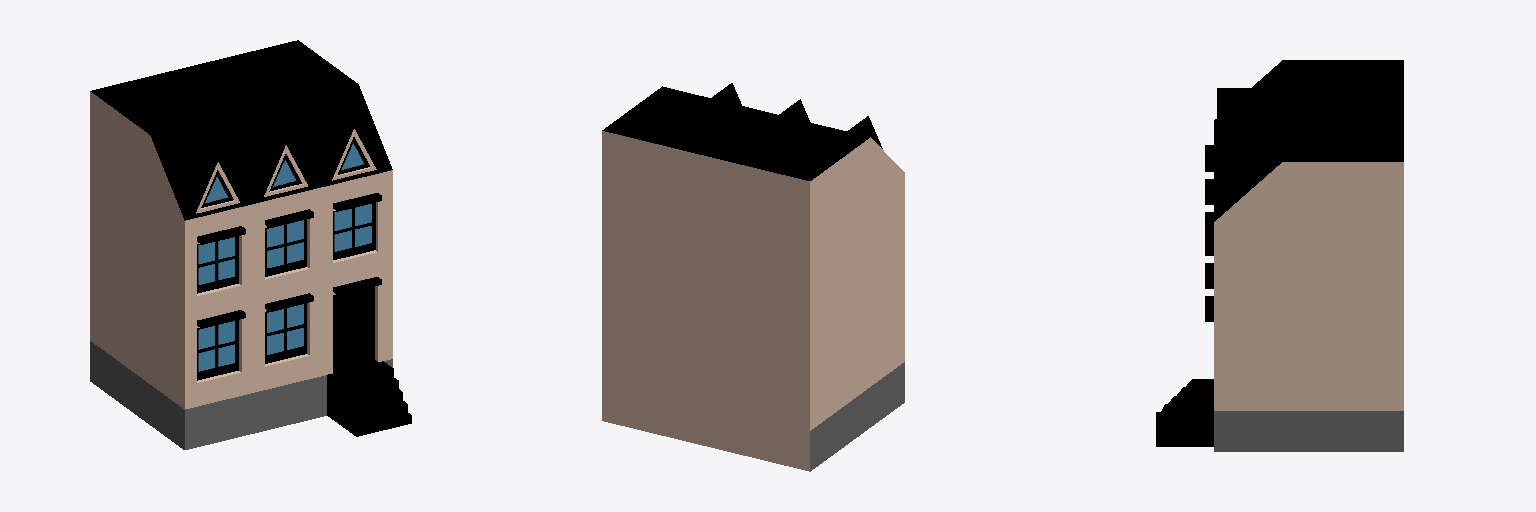
The picture shows the model from 3 angles: view 1: azimuth 30°, elevation 25°; view 2: azimuth 150°, elevation 25°; view 3: azimuth 270°, elevation 25°; orthographic projection.
Visible parts, largest first — view 1: Cube.003; view 2: Cube.003; view 3: Cube.003.
Boxes of the visible parts, x1,y1,x2,y2 form: Cube.003: [90, 40, 411, 449]; Cube.003: [602, 83, 904, 471]; Cube.003: [1156, 60, 1403, 451].
Bounding box in the file's own units: 6 × 7.99 × 6.17.
1 materials, 1 textured.